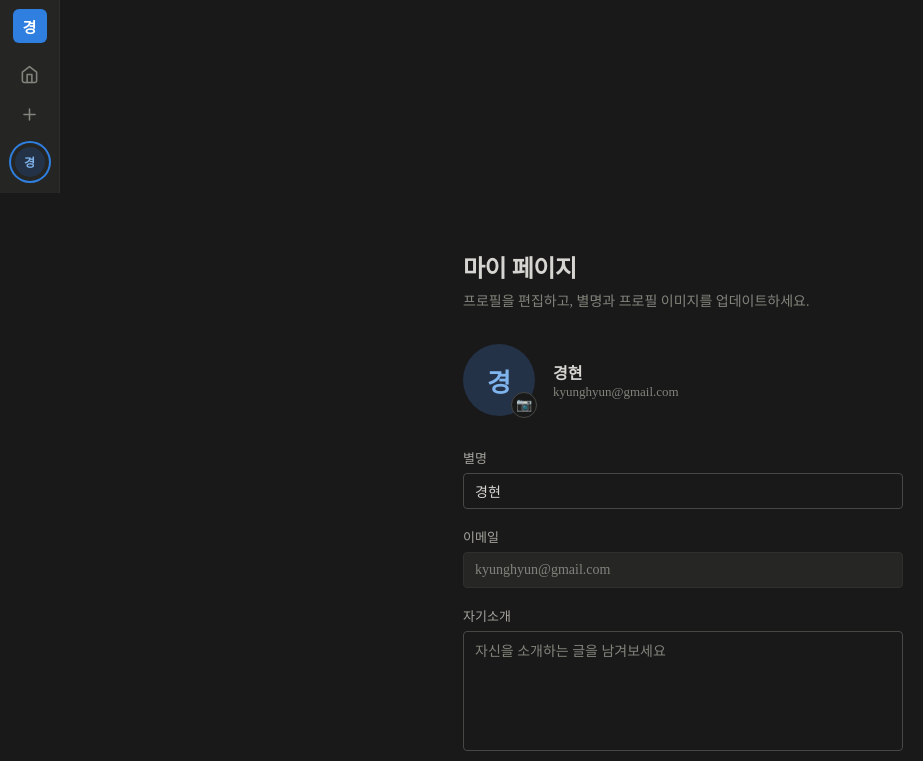
Scenario: 마이페이지 자기소개 — 저장 실패 (US3) › 저장 실패 후 재시도가 성공하면 오류 문구가 사라지고 확인 표시가 나타난다
In the text box with placeholder "자신을 소개하는 글을 남겨보세요": [683, 691] box [463,631,903,751], type "소개"
(page scrolled)
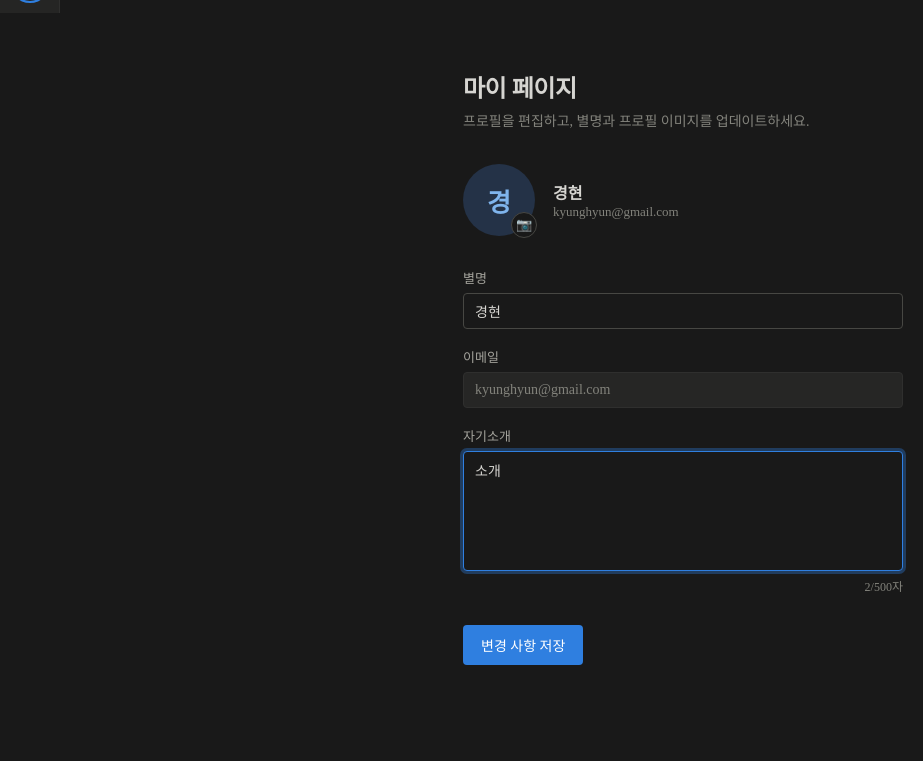
Click the button "변경 사항 저장": [523, 645] box [463,625,583,665]
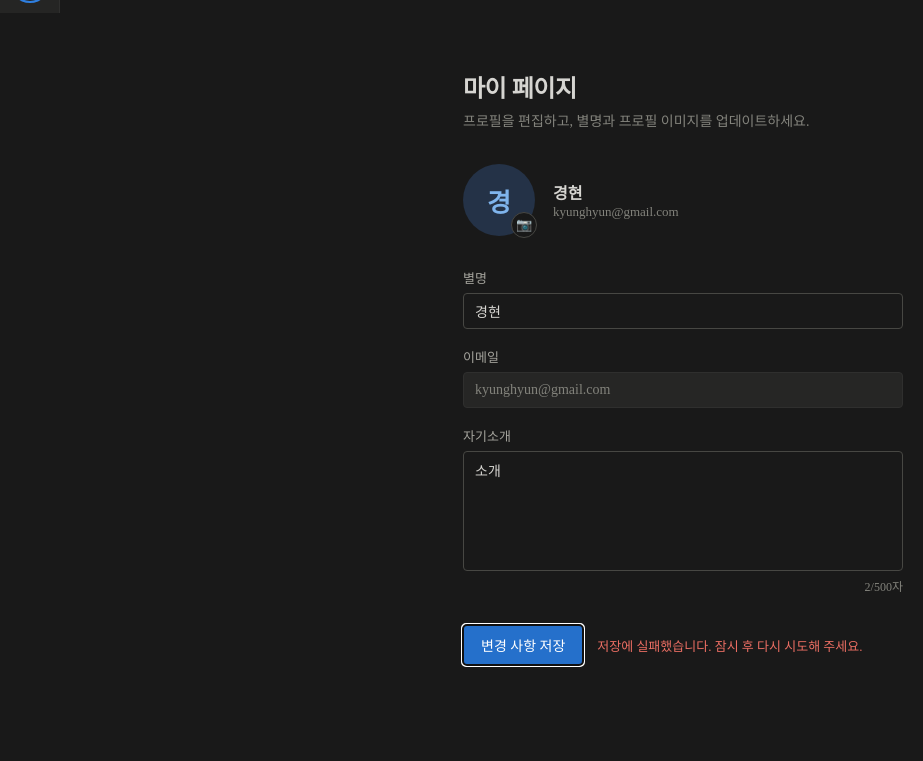
Now the text "저장에 실패했습니다. 잠시 후 다시 시도해 주세요." is shown, box [597,636,862,654]
Click the button "변경 사항 저장": [523, 645] box [463,625,583,665]
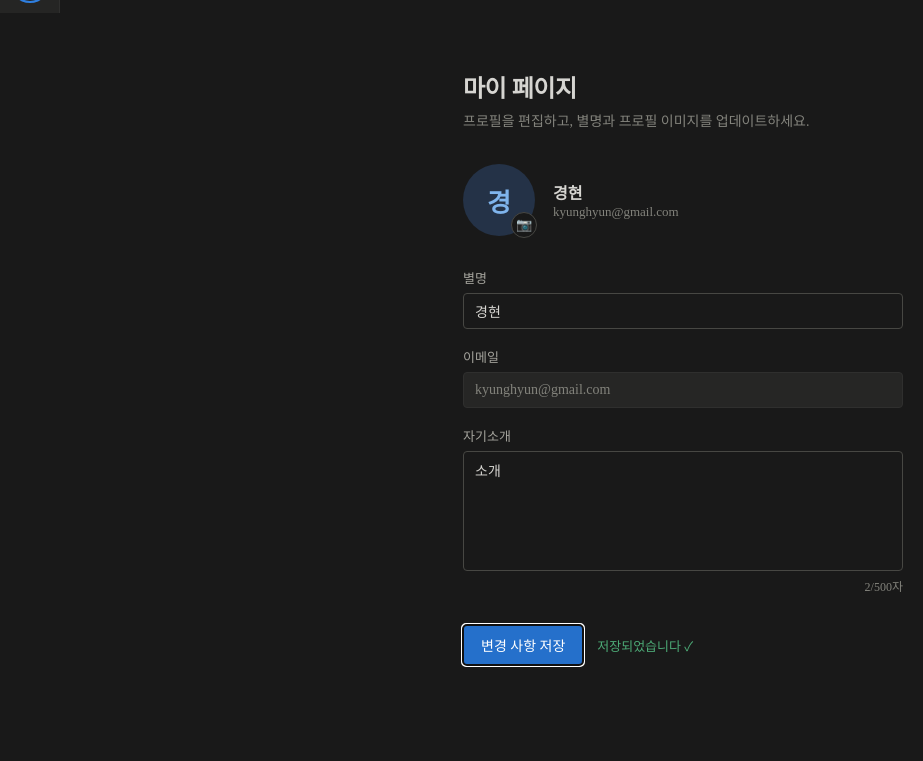
Now the text "저장되었습니다 ✓" is shown, box [597,636,693,654]
Now the text "저장에 실패했습니다. 잠시 후 다시 시도해 주세요." is gone
